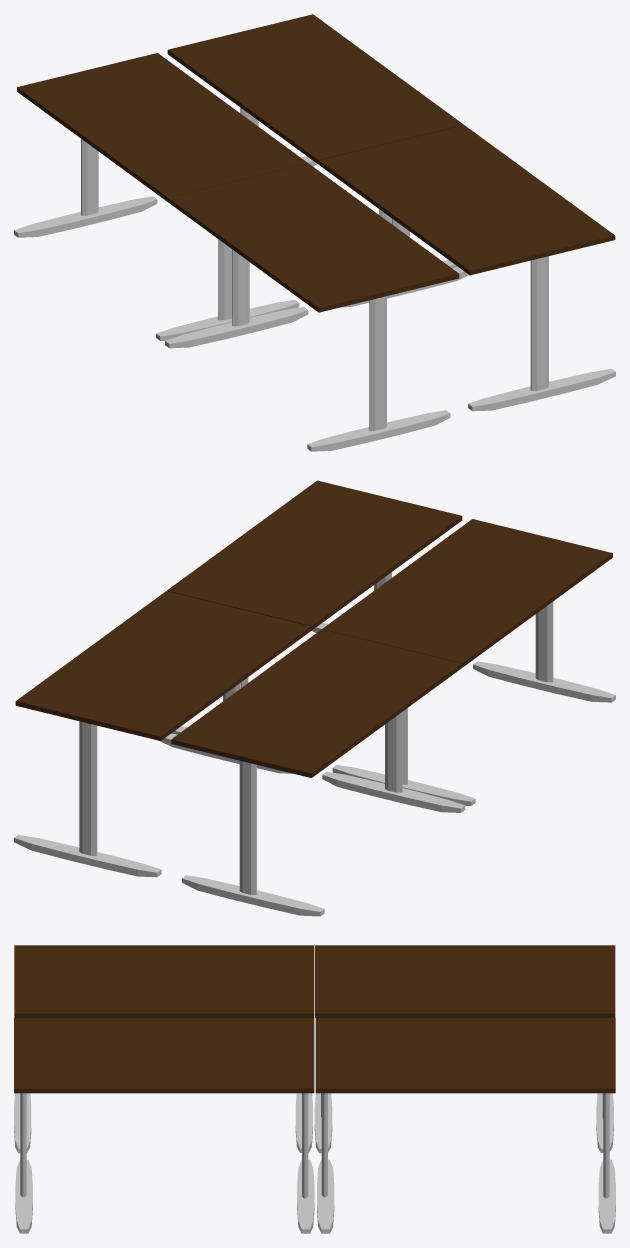
The model's file is ScrivaniaUfficio4.dae.
The picture shows the model from 3 angles, top to bottom: view 1: azimuth 30°, elevation 25°; view 2: azimuth 150°, elevation 25°; view 3: azimuth 270°, elevation 25°; orthographic projection.
Visible parts, largest first — view 1: Sscrivania_001_002, Sscrivania_000_003, Sscrivania_003_002, Sscrivania_002_002; view 2: Sscrivania_003_002, Sscrivania_002_002, Sscrivania_001_002, Sscrivania_000_003; view 3: Sscrivania_000_003, Sscrivania_002_002, Sscrivania_003_002, Sscrivania_001_002.
Part boxes in pixels (x1=…): Sscrivania_001_002: x1=165, y1=163, x2=459, y2=451; Sscrivania_000_003: x1=319, y1=125, x2=615, y2=411; Sscrivania_003_002: x1=14, y1=53, x2=308, y2=340; Sscrivania_002_002: x1=167, y1=14, x2=463, y2=267; Sscrivania_003_002: x1=171, y1=629, x2=465, y2=916; Sscrivania_002_002: x1=14, y1=591, x2=311, y2=877; Sscrivania_001_002: x1=322, y1=519, x2=615, y2=805; Sscrivania_000_003: x1=167, y1=480, x2=462, y2=734; Sscrivania_000_003: x1=14, y1=1018, x2=314, y2=1233; Sscrivania_002_002: x1=315, y1=1018, x2=615, y2=1233; Sscrivania_003_002: x1=314, y1=945, x2=615, y2=1153; Sscrivania_001_002: x1=14, y1=945, x2=314, y2=1153.
Size of the model in its own units: 1.64 by 2.81 by 0.7524.
